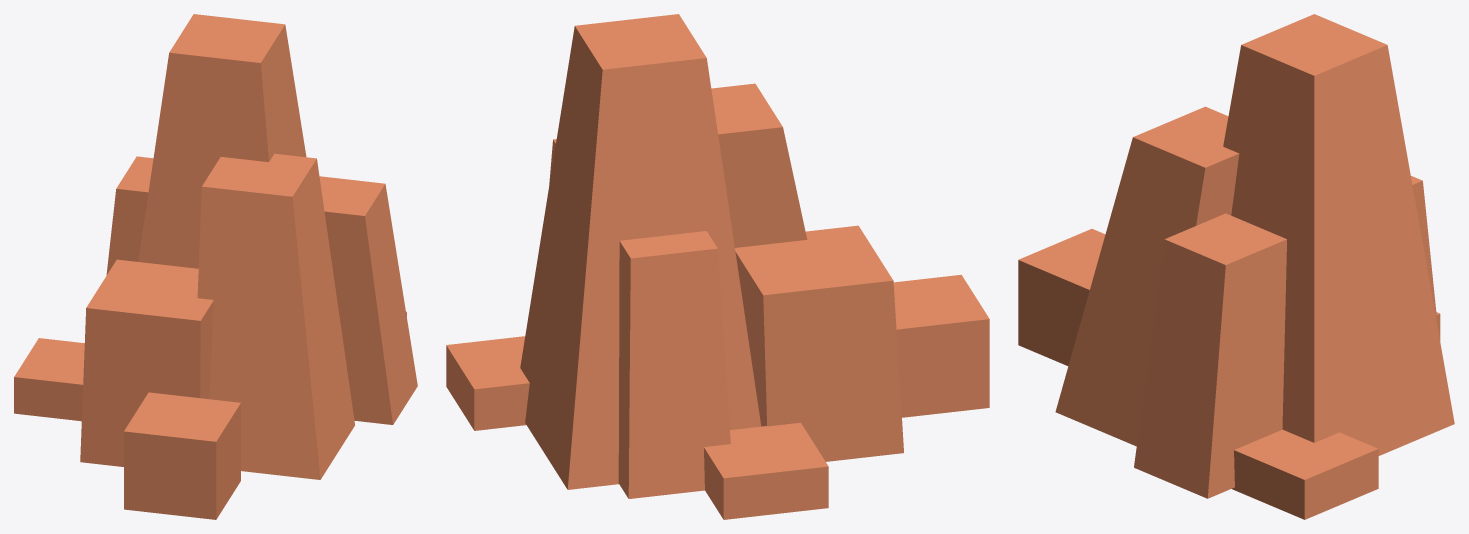
The model's file is rock03.fbx.
3 views of the same model, side by side, from view 1: azimuth 30°, elevation 25°; view 2: azimuth 150°, elevation 25°; view 3: azimuth 270°, elevation 25° (orthographic). The views are drawn at different scales.
Visible parts, largest first — view 1: rock_03; view 2: rock_03; view 3: rock_03.
Part boxes in pixels (<box>): rock_03: <box>14,14,417,519</box>; rock_03: <box>446,14,989,519</box>; rock_03: <box>1018,14,1454,519</box>.
Size of the model in its own units: 3.58 by 3.14 by 3.26.
1 material, 1 textured.
